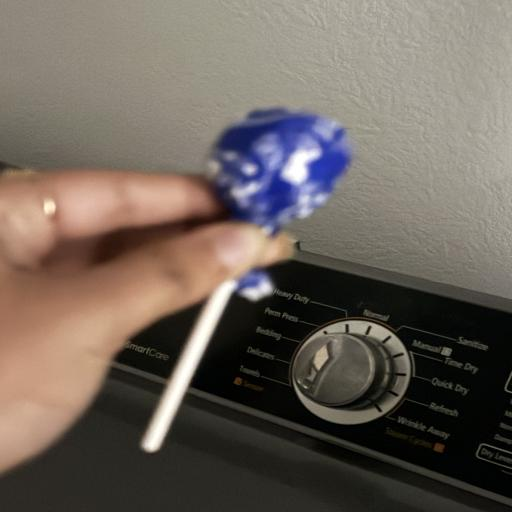chocolate: (209, 109, 351, 235)
